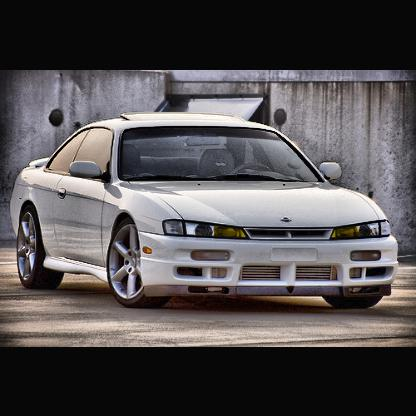Nissan 240SX Coupe 1998: (10, 110, 403, 315)
